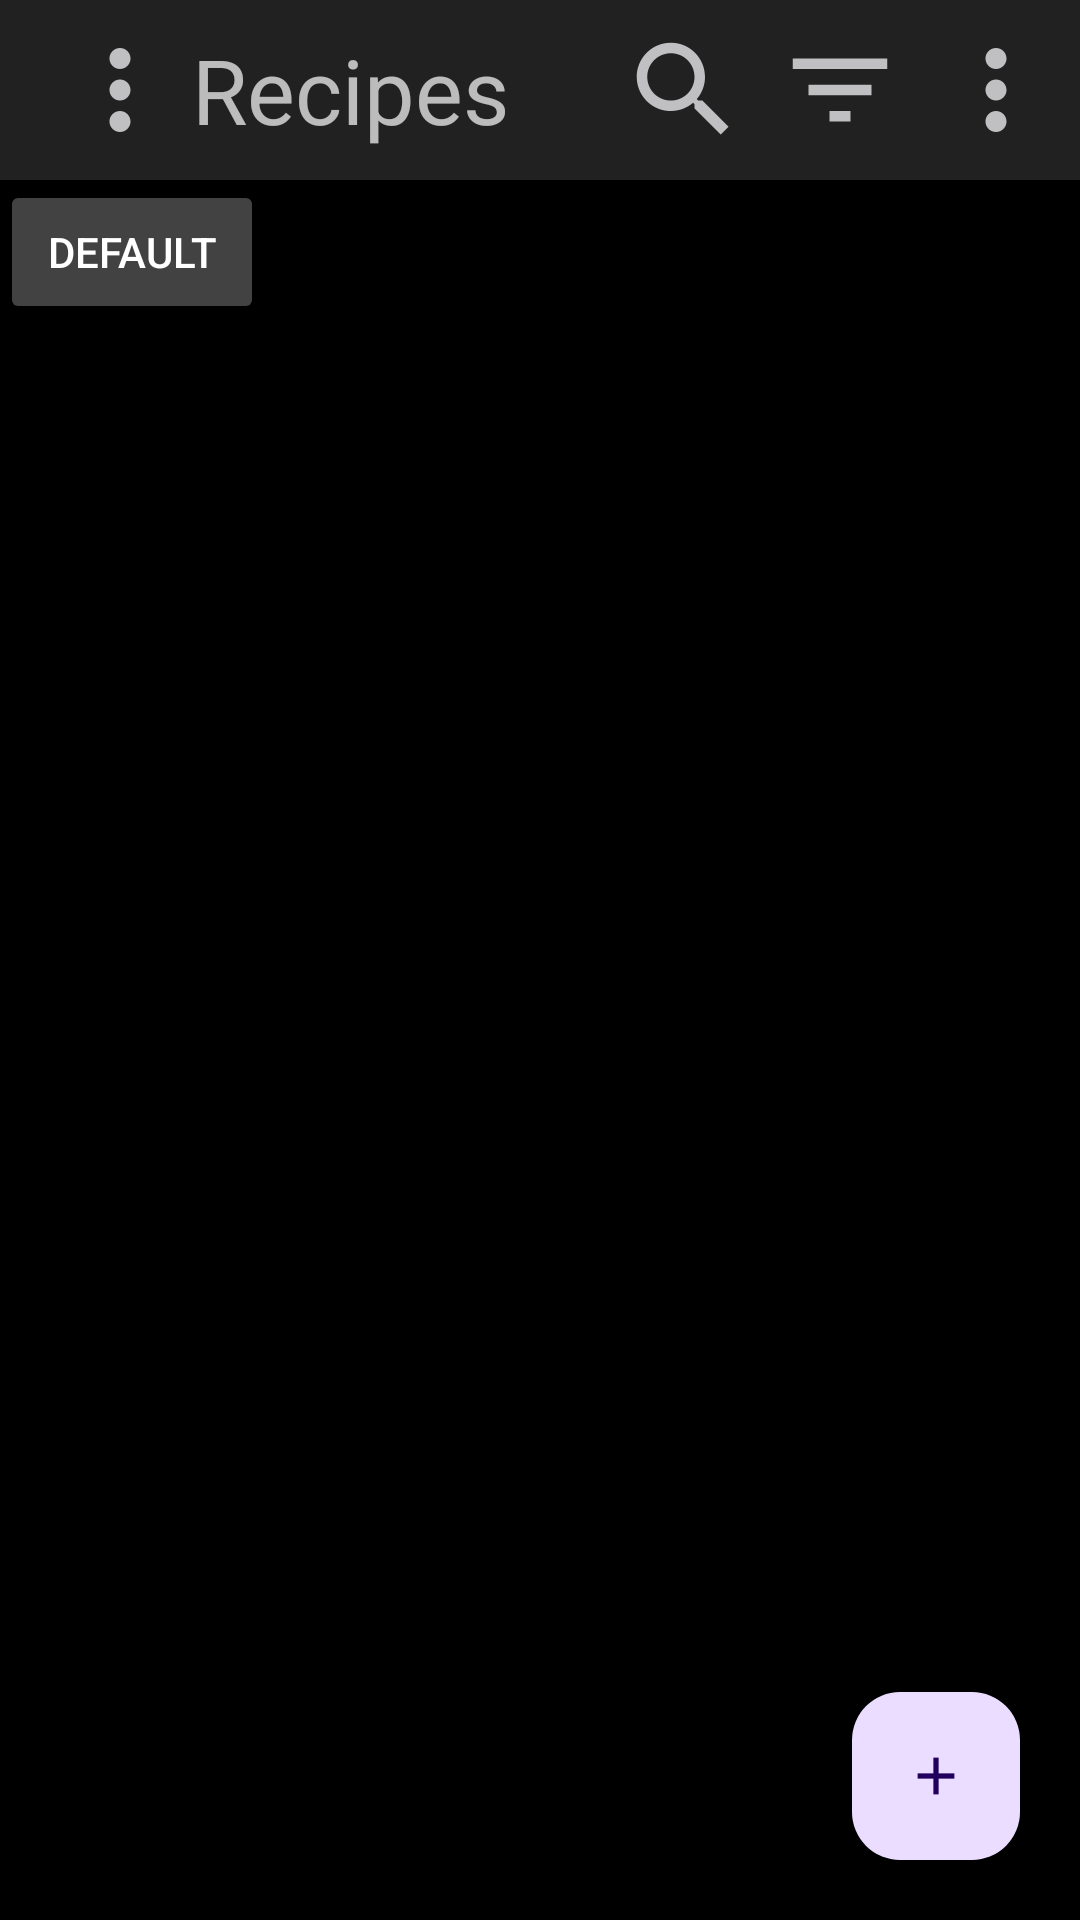

Point at icon controls on the screen. Image size 1080x1920, points as point (x, y).
add: point (936, 1776)
filter secondary: point (840, 90)
more secondary: point (120, 90), point (996, 90)
search secondary: point (682, 88)
